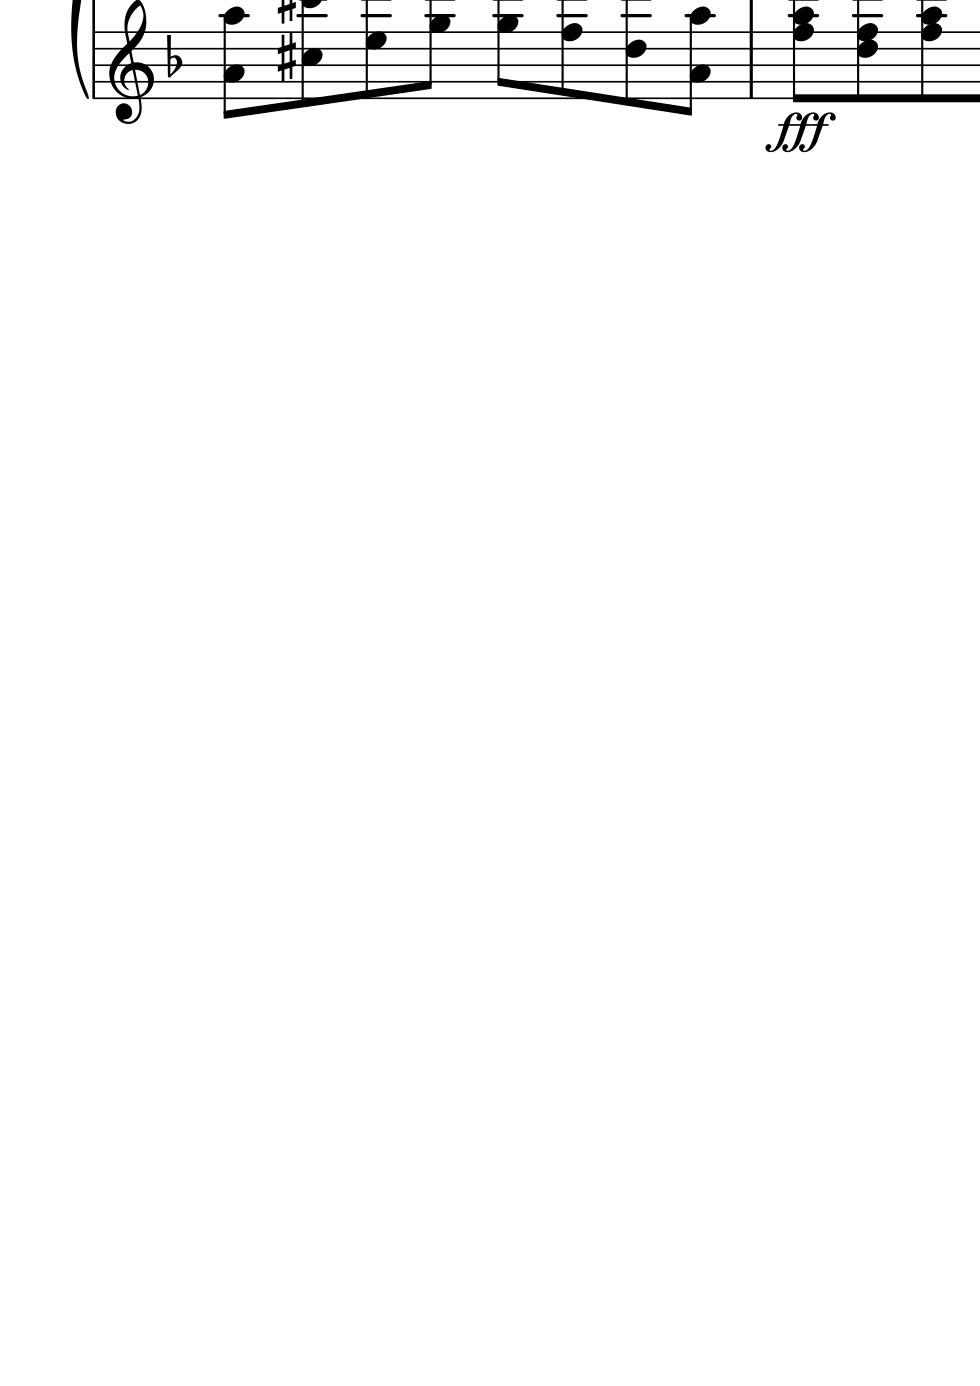8_3_10: (215, 6, 247, 124), (681, 4, 713, 118)
Flat: (164, 32, 182, 76)
Gclef: (110, 1, 155, 122)
Sharp: (277, 33, 297, 81)
Single_barline: (742, 32, 759, 99), (88, 32, 102, 99)
fff: (764, 110, 835, 153)
